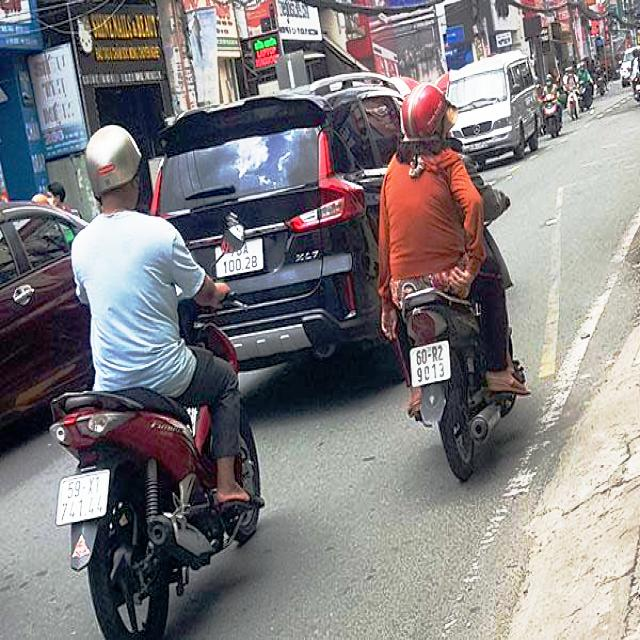license_plate: (56, 473, 108, 527), (412, 342, 451, 389)
